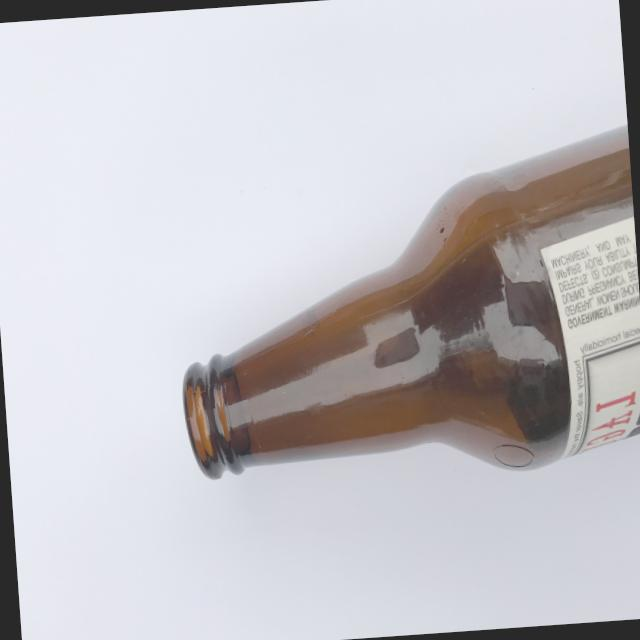Glass: (143, 108, 640, 511)
